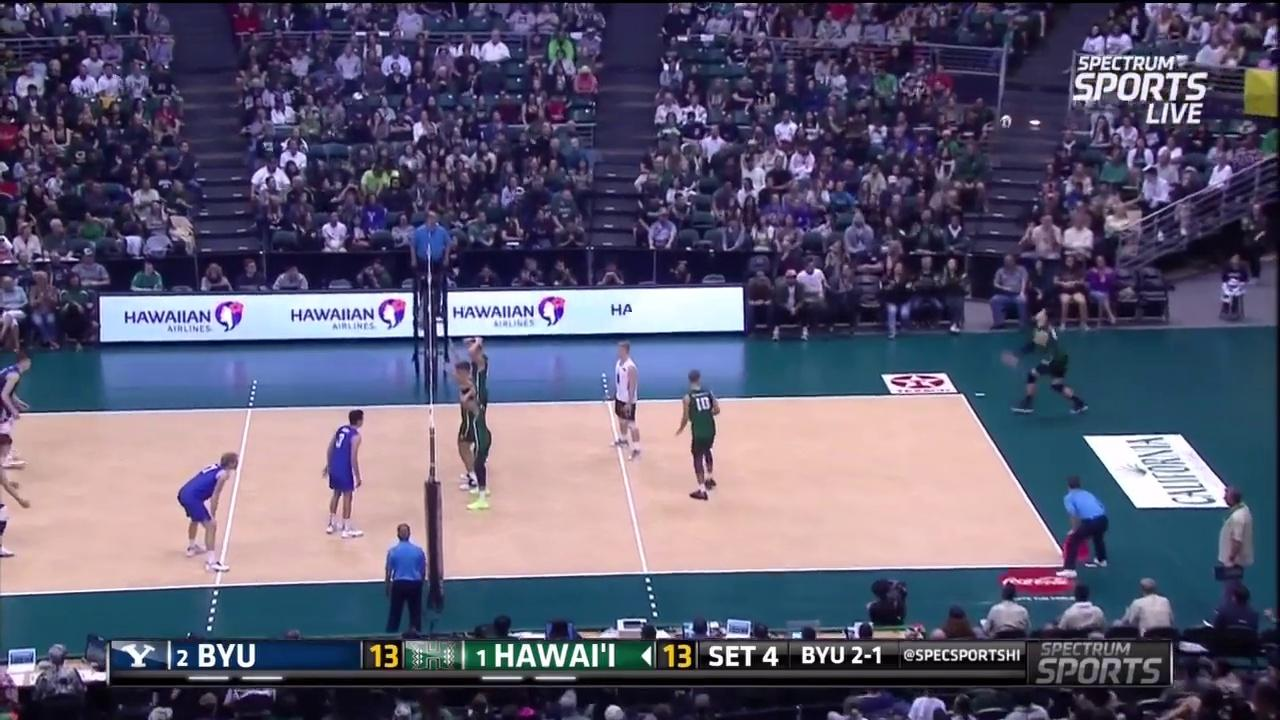player: (1007, 310, 1089, 413), (179, 450, 238, 567), (457, 387, 501, 514), (676, 371, 721, 495), (324, 413, 368, 538), (449, 358, 491, 486), (606, 344, 642, 465), (462, 335, 494, 466), (0, 345, 39, 443), (0, 435, 29, 562)
refree: (384, 524, 430, 640), (1065, 478, 1110, 568), (414, 206, 452, 309)
